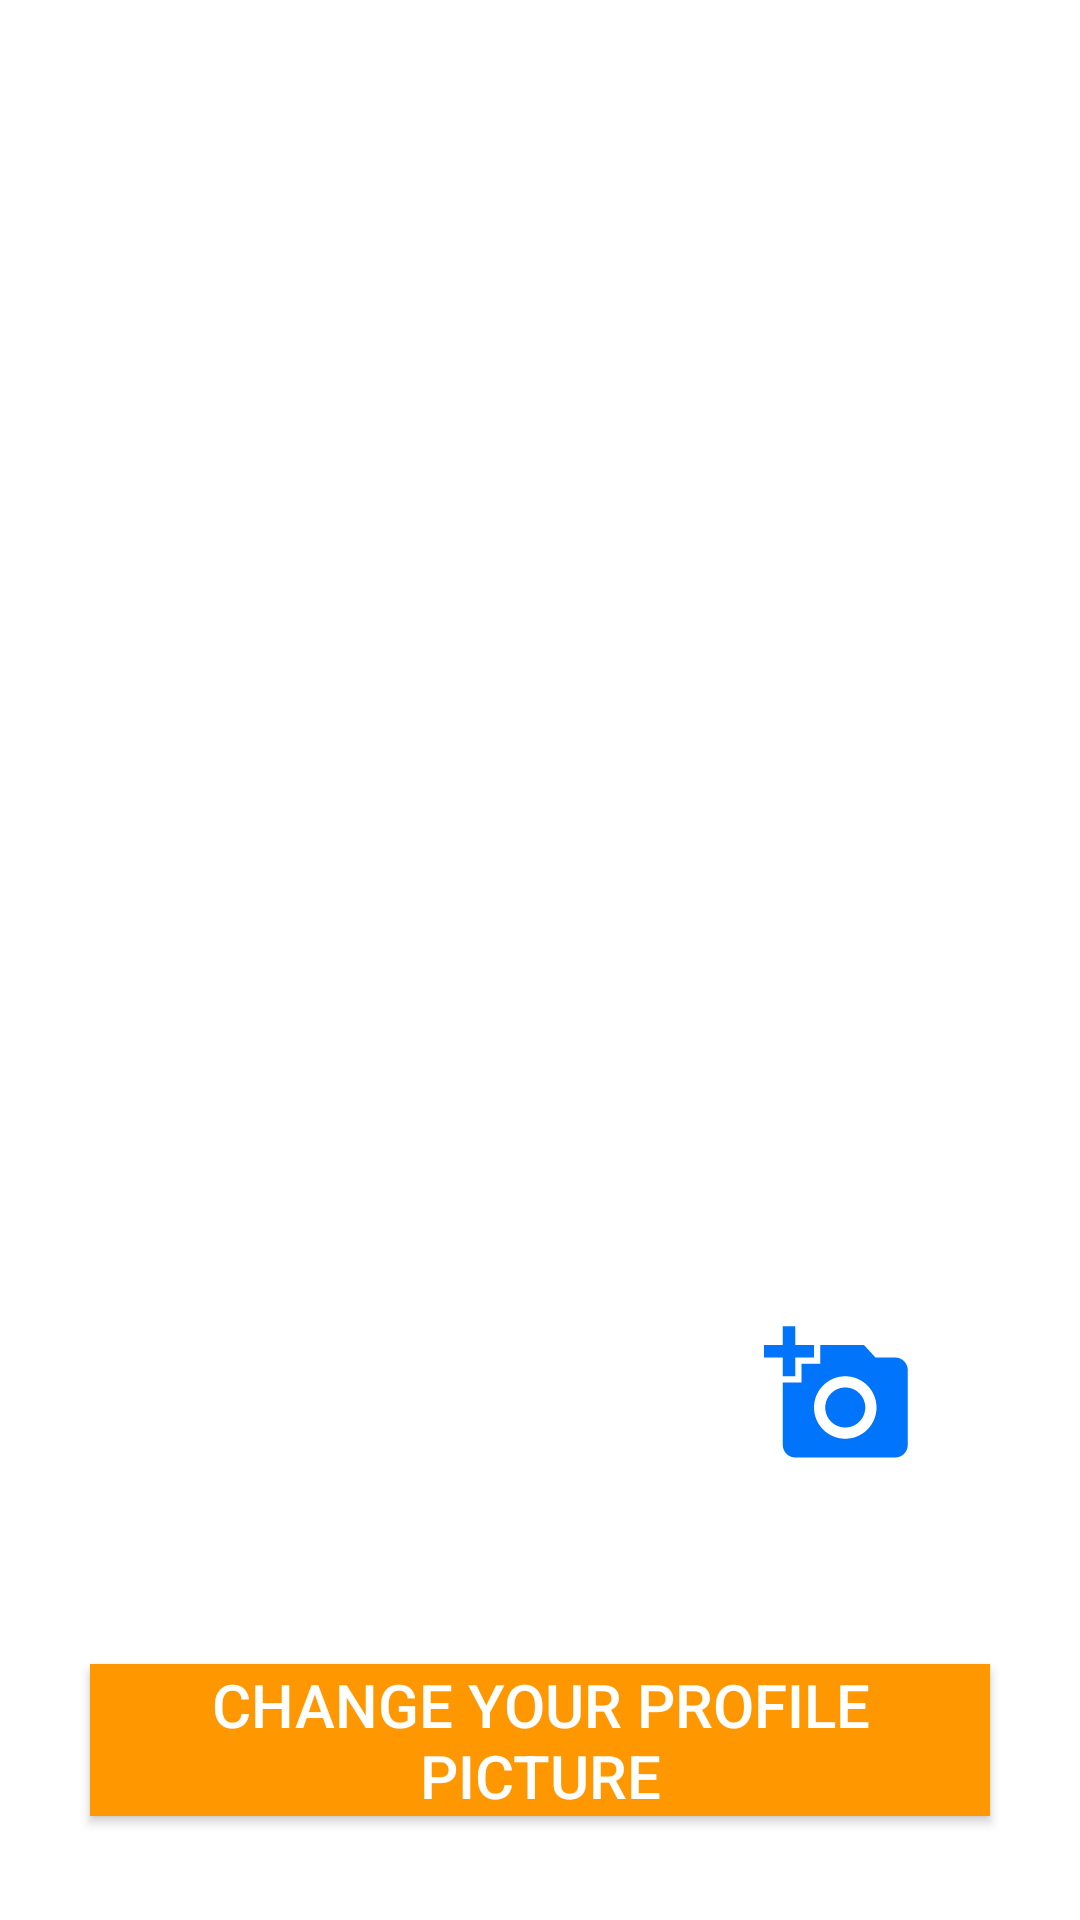

Icons on this 1080px×1920px Android screen, each with its box as (x1, y1, x2, y2):
add photo: (764, 1326, 908, 1458)
